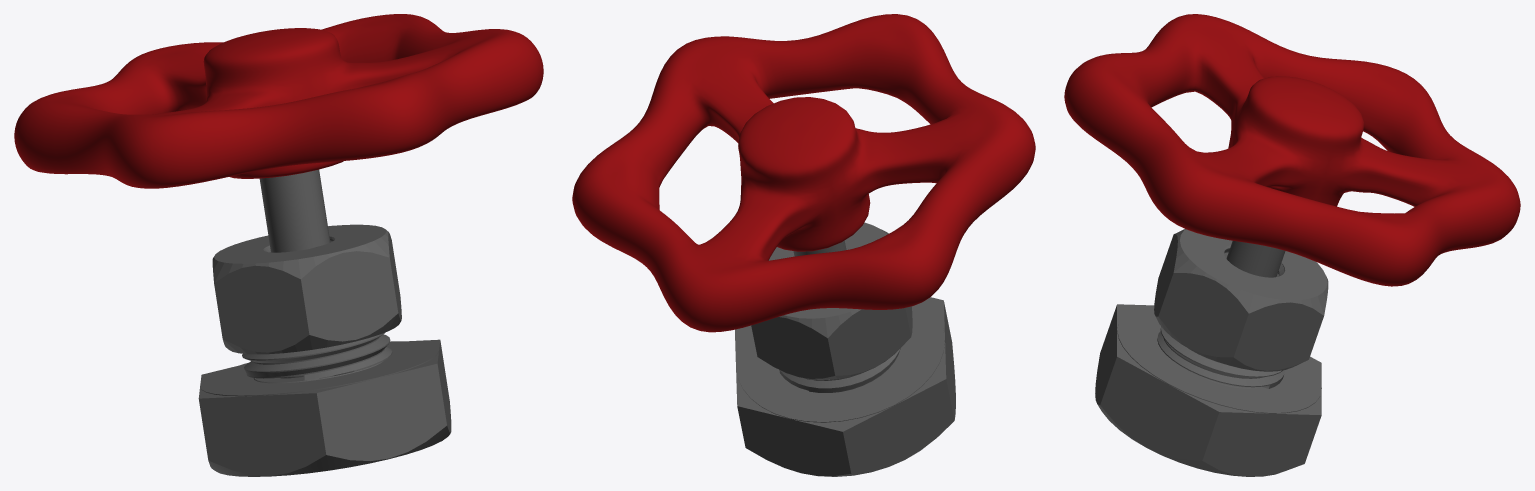
File: Hosevalve.fbx
The picture shows the model from 3 angles, left to right: view 1: azimuth 30°, elevation 25°; view 2: azimuth 150°, elevation 25°; view 3: azimuth 270°, elevation 25°; orthographic projection. The views are drawn at different scales.
Visible parts, largest first — view 1: Faucet Handle.001, Bolt.001, Nut.001, Faucet Stem.001; view 2: Faucet Handle.001, Bolt.001, Nut.001; view 3: Faucet Handle.001, Bolt.001, Nut.001, Faucet Stem.001.
Part boxes in pixels (x1,y1,x2,y2): Faucet Handle.001: (14,14,543,188); Bolt.001: (198,332,451,476); Nut.001: (212,224,401,354); Faucet Stem.001: (259,169,330,252); Faucet Handle.001: (572,14,1035,332); Bolt.001: (735,297,955,476); Nut.001: (751,222,912,379); Faucet Handle.001: (1064,14,1520,286); Bolt.001: (1095,304,1321,476); Nut.001: (1154,229,1328,371); Faucet Stem.001: (1226,241,1285,277).
Size of the model in its own units: 92.43 by 93.78 by 99.71.
